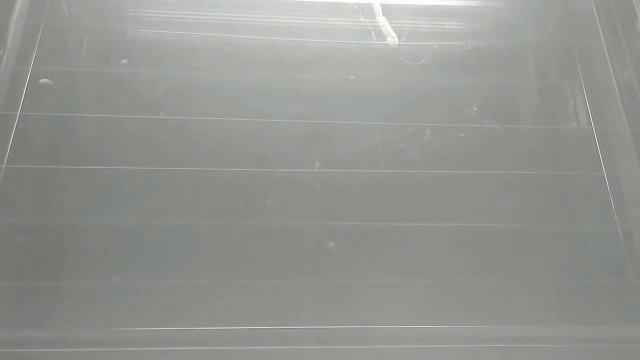alpha: (371, 1, 400, 47), (34, 75, 58, 89)
